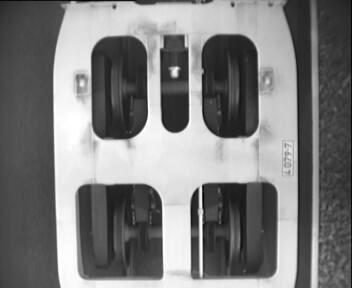twist_lock_2: (85, 30, 265, 143)
